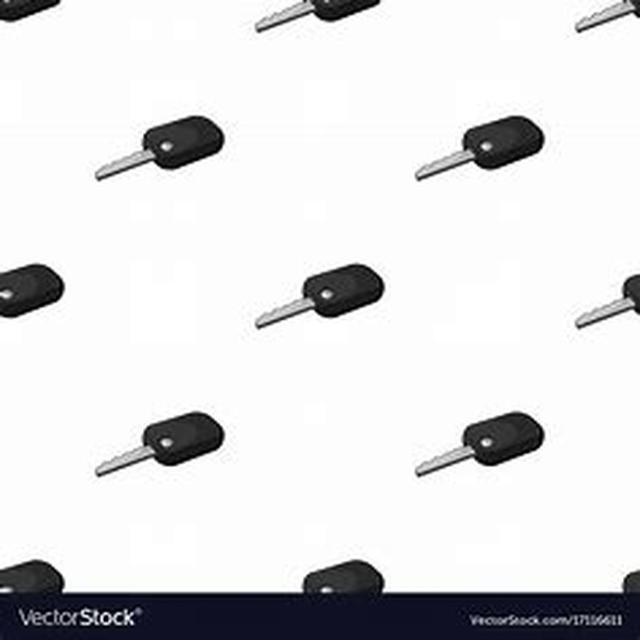key: (393, 96, 562, 212), (85, 102, 237, 212), (249, 260, 430, 350), (402, 394, 524, 512), (245, 549, 409, 625), (96, 402, 252, 481), (217, 14, 422, 74), (0, 551, 118, 624), (0, 236, 83, 326), (554, 278, 635, 368), (0, 5, 113, 37), (582, 20, 633, 70)
